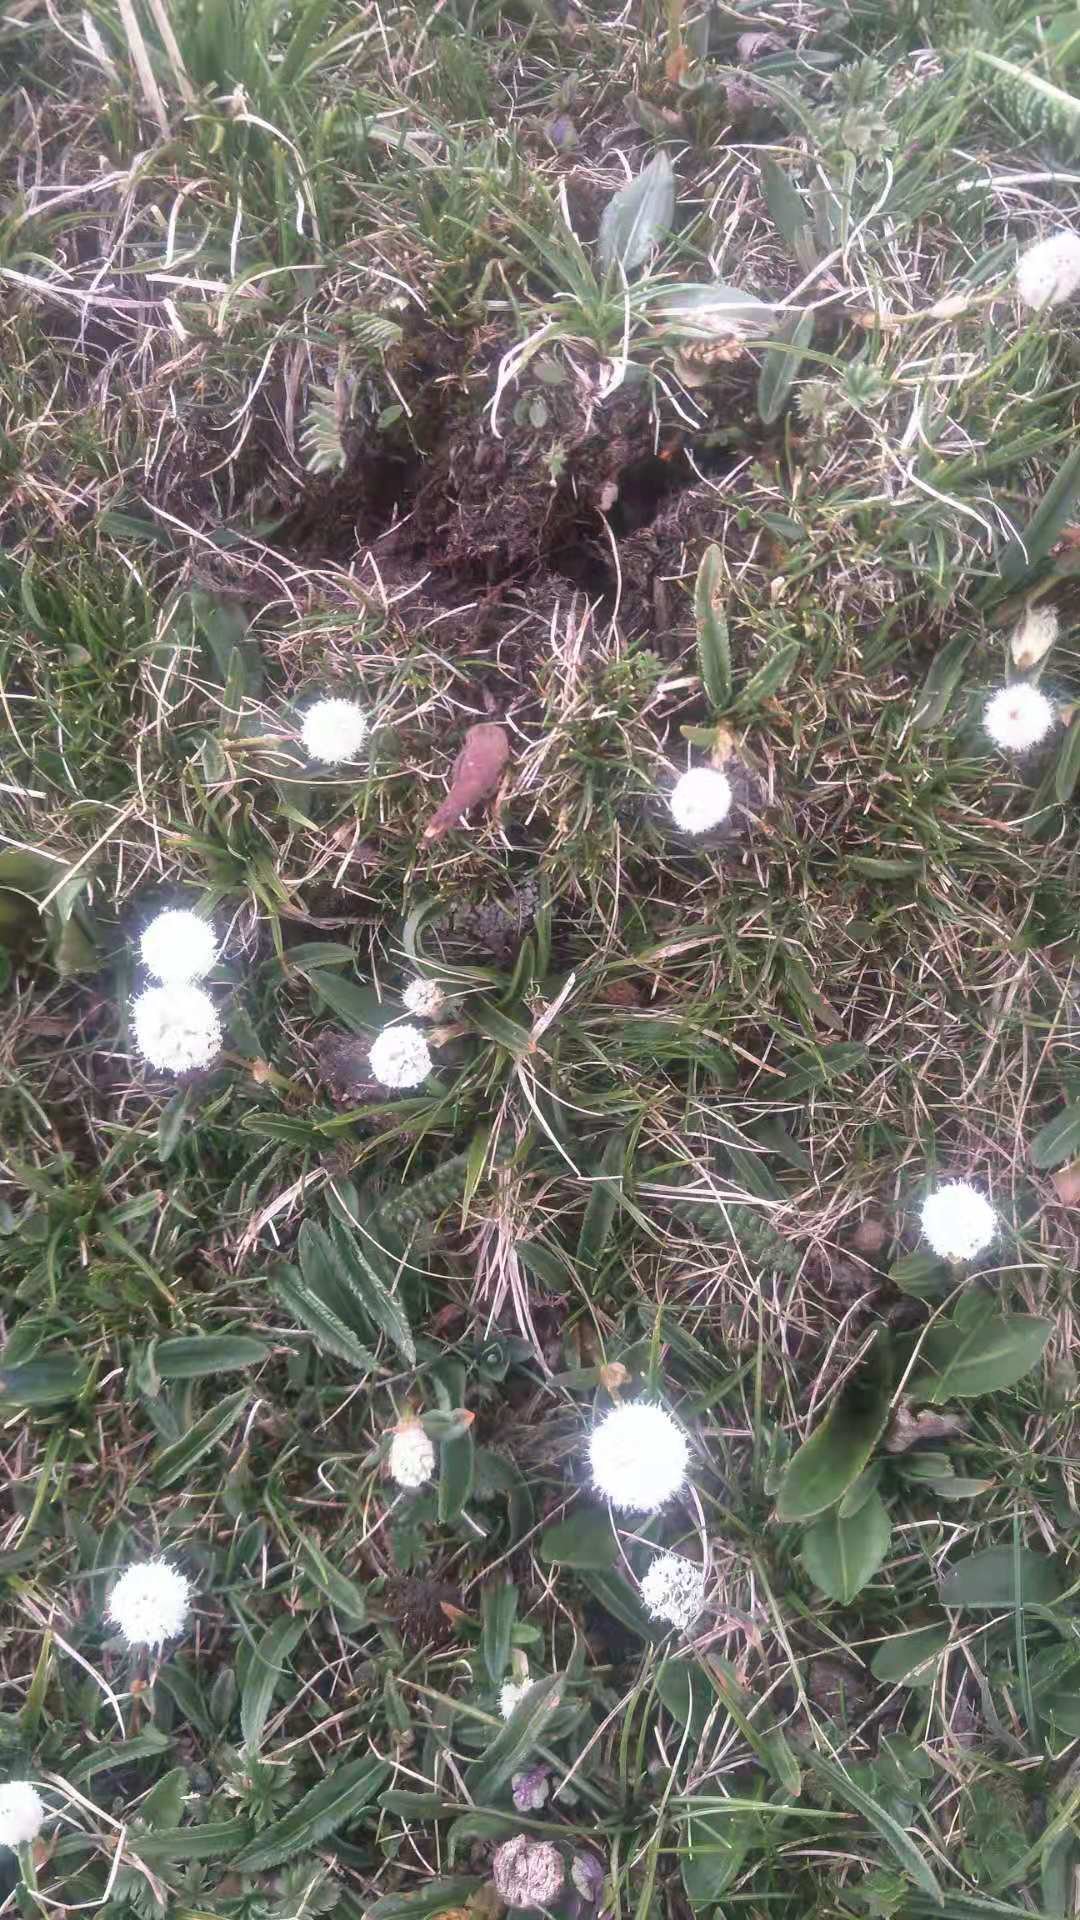Chongcao: (422, 724, 510, 843)
